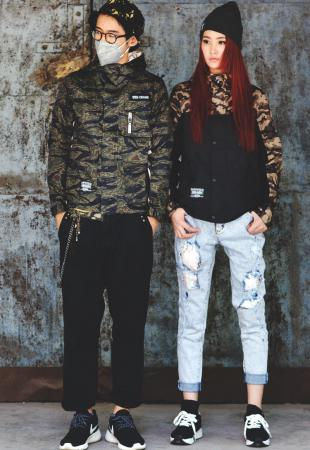face: (202, 24, 228, 68)
face_mask: (94, 12, 126, 64)
